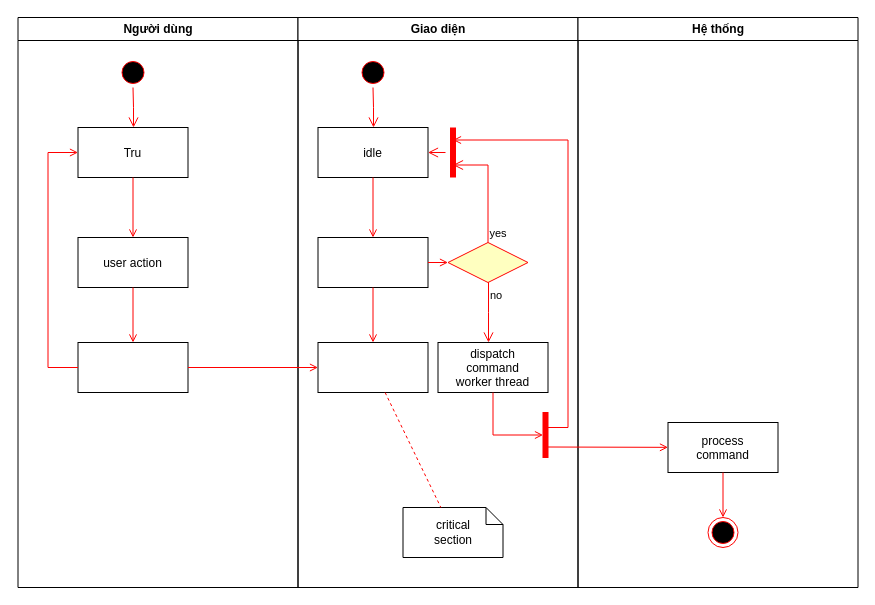
This 875x605 diagram has some shape labels left out. The shapes that lost their labels are listed below. From the top down, each one's box as (x1, y1, x2, y2) in pixels, then its label:
(317, 236, 428, 288): check for new commands
(447, 242, 528, 282): queue empty
(77, 342, 188, 392): post command
(317, 342, 428, 392): command queue
